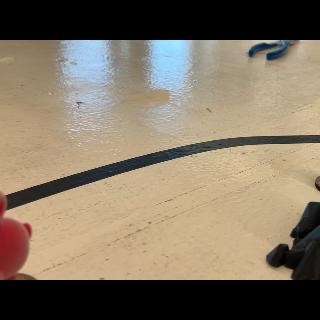teletubby: (0, 192, 32, 280)
